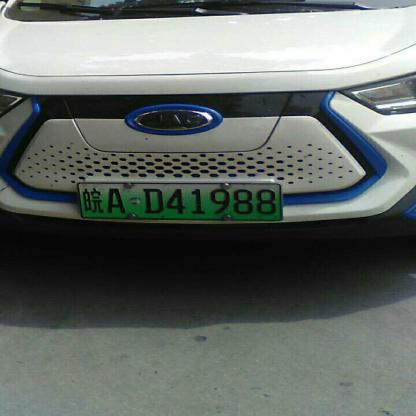lp: (77, 182, 282, 218)
